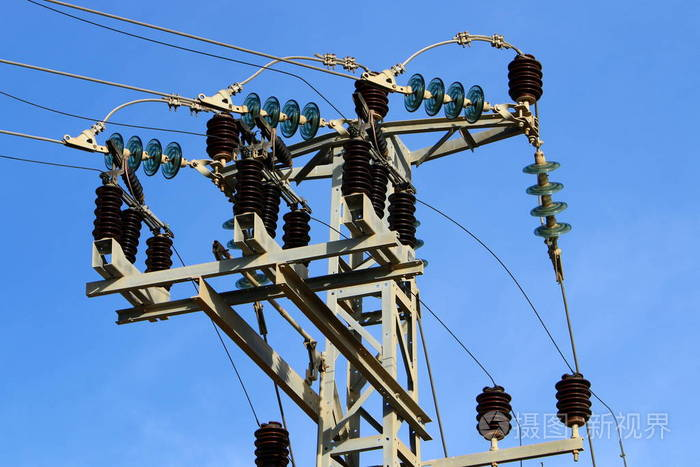insulator: (405, 73, 487, 124), (98, 129, 182, 177), (524, 156, 571, 241), (242, 90, 321, 137)
